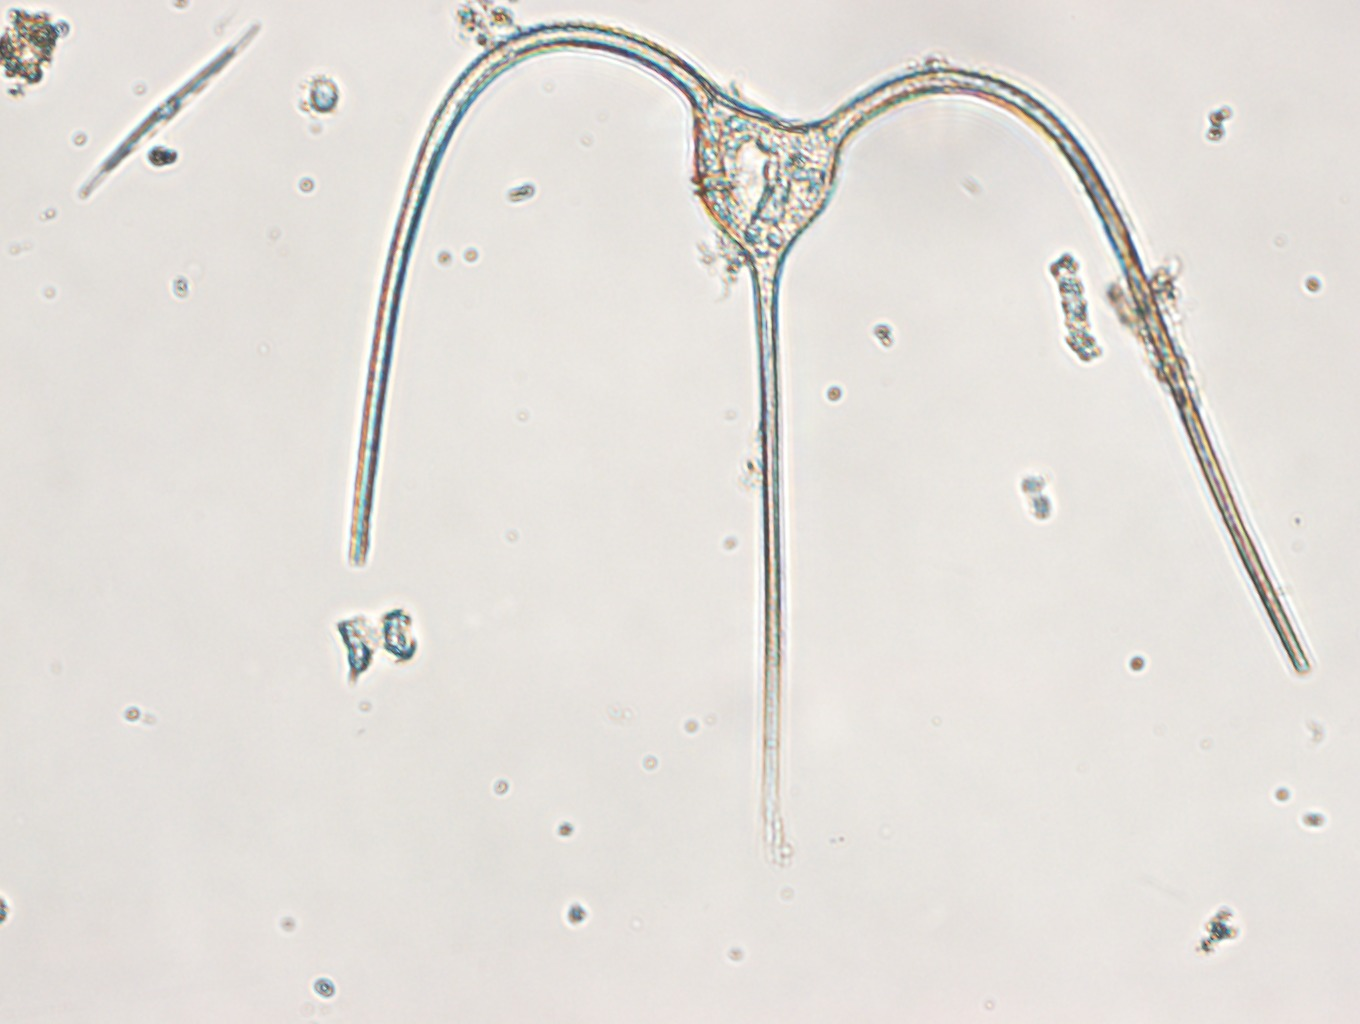ceratium trichoceros: (337, 15, 1306, 806)
